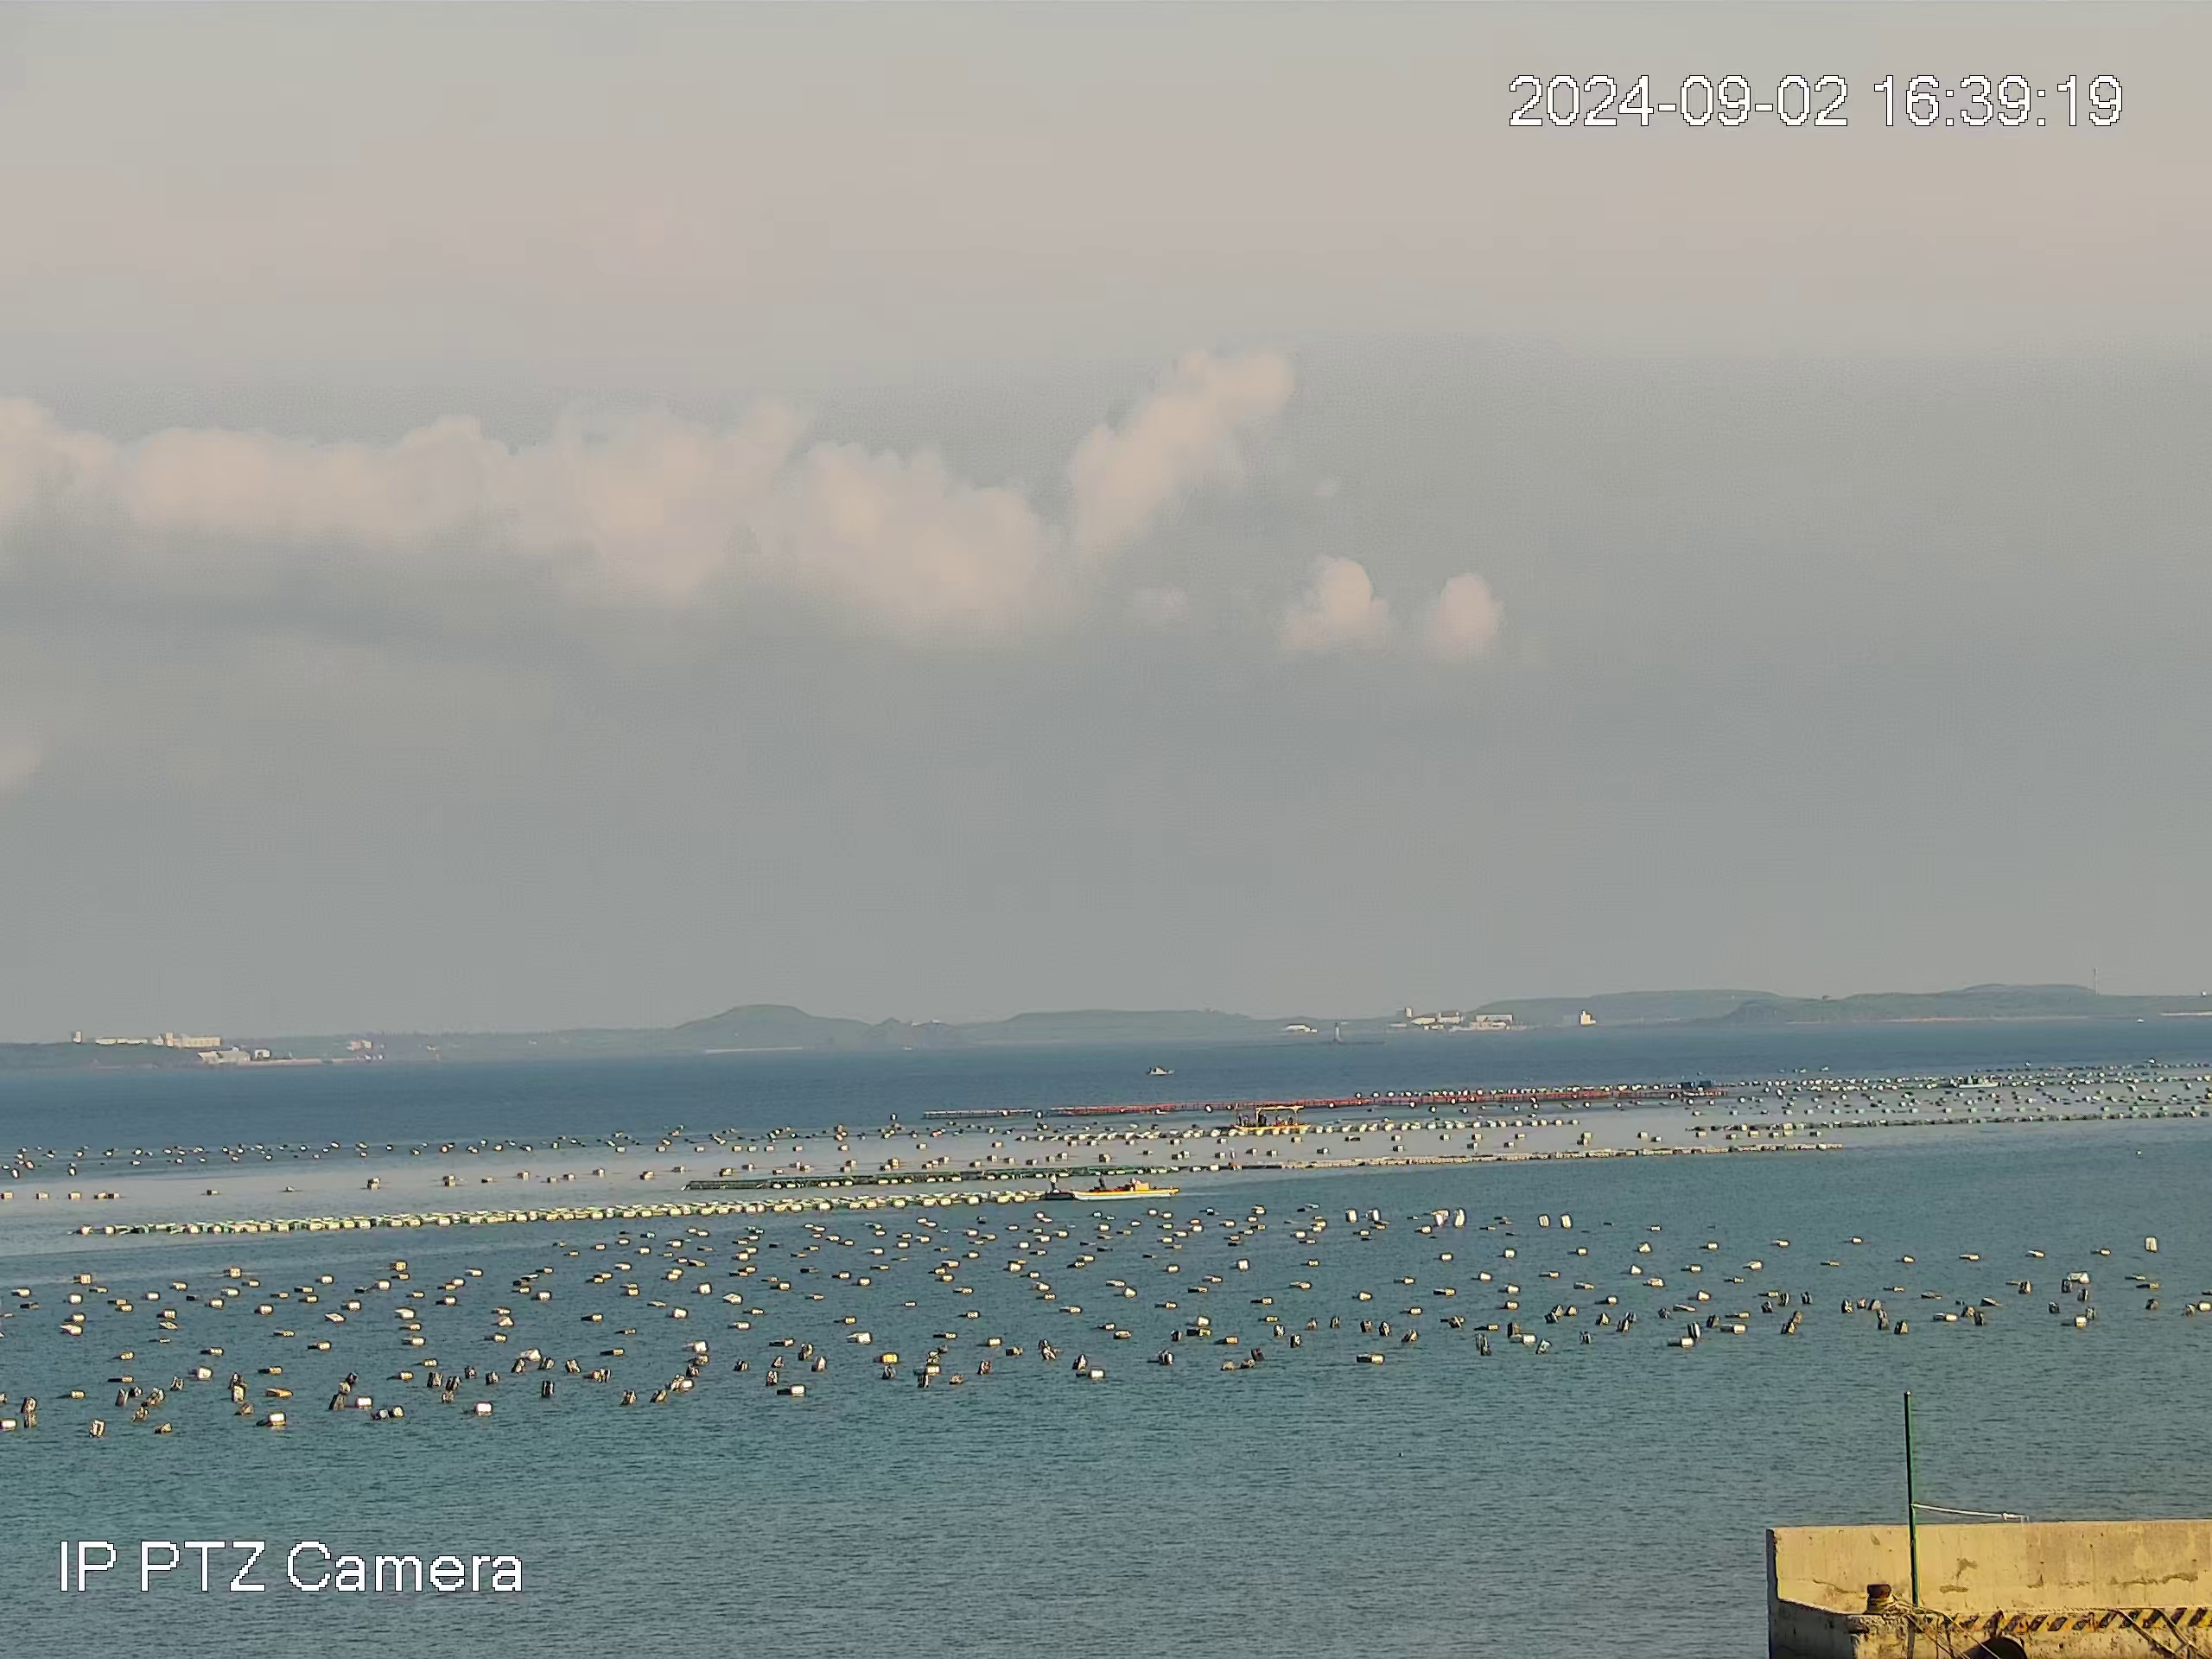boat: (1039, 1172, 1181, 1202), (1230, 1103, 1312, 1130), (1957, 1073, 1999, 1090), (1147, 1065, 1177, 1077)
